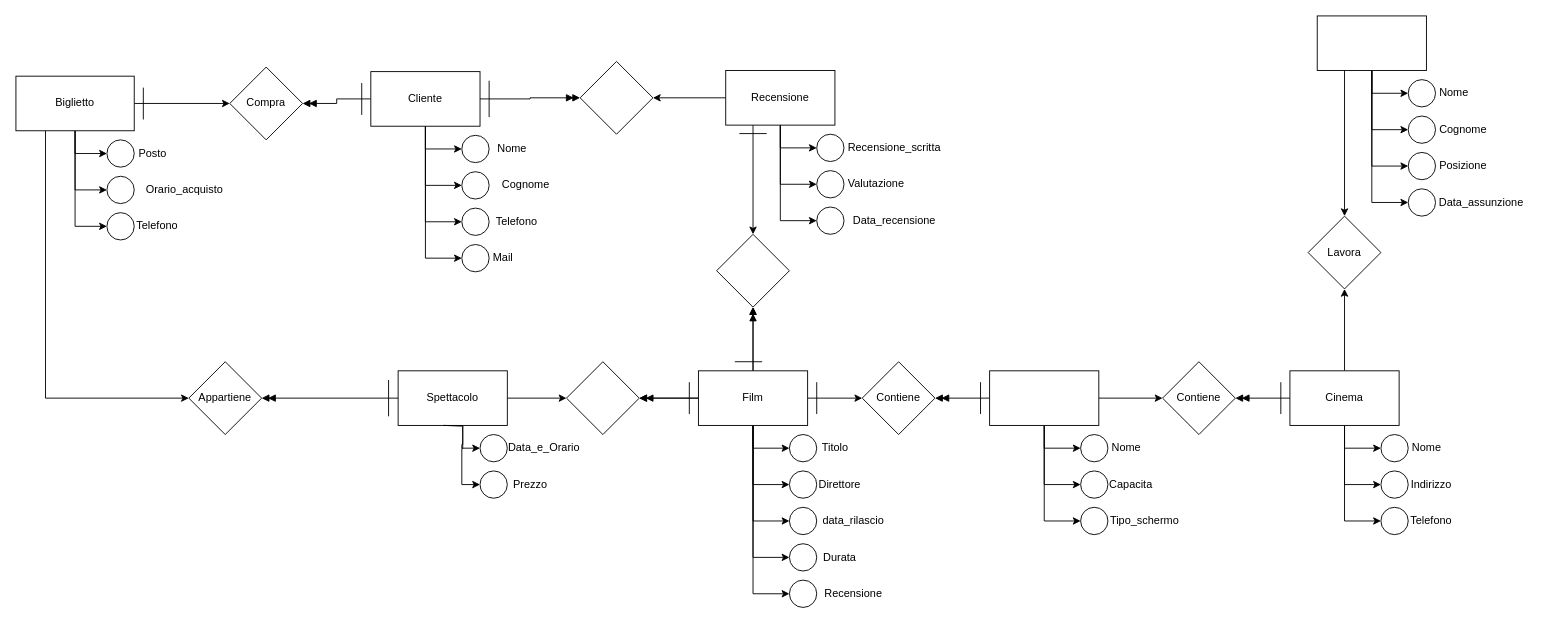
Some shapes in this 1552 by 623 pixel diagram are drawn without their labels. The centre of each missing label's shape, as x and y in pixels:
"Dipendente" goes at (1371,43).
"Effettua" goes at (616,97).
"Proietta" goes at (602,398).
"Riceve" goes at (752,270).
"Sala" goes at (1044,397).
